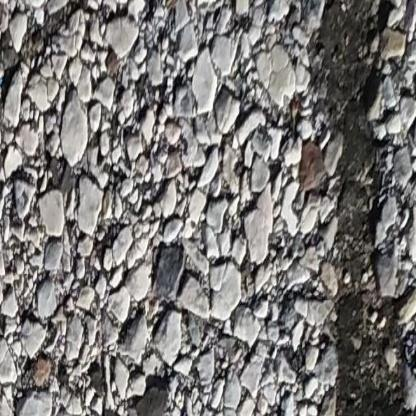Cracks: (311, 0, 414, 416), (0, 0, 160, 105)
